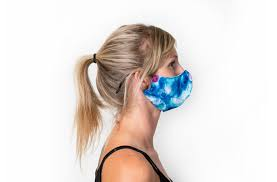with-mask: (105, 28, 197, 114)
